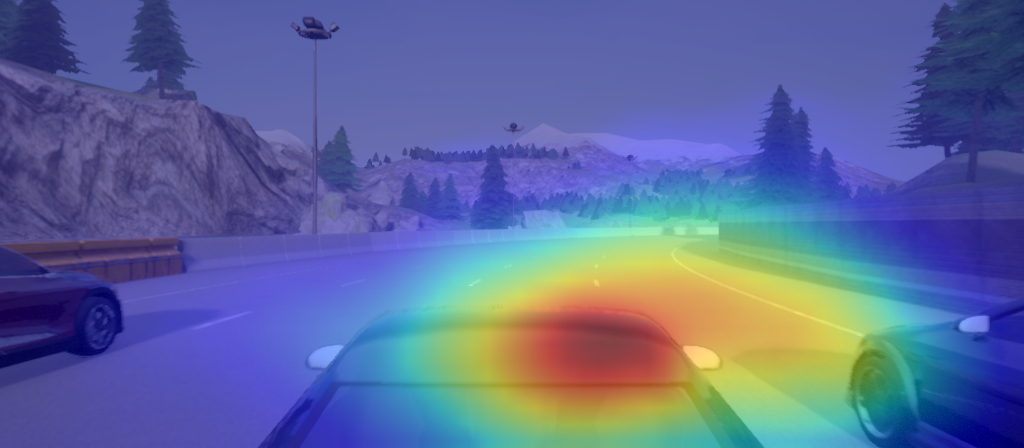Barrier: (724, 211, 1009, 266), (106, 244, 283, 260)
Car: (250, 300, 775, 448), (839, 291, 1024, 448), (1, 239, 127, 380)
Lane Marker: (189, 305, 259, 335), (335, 273, 369, 293), (587, 273, 607, 292), (463, 273, 484, 288)
Light Pole: (286, 10, 345, 236)
